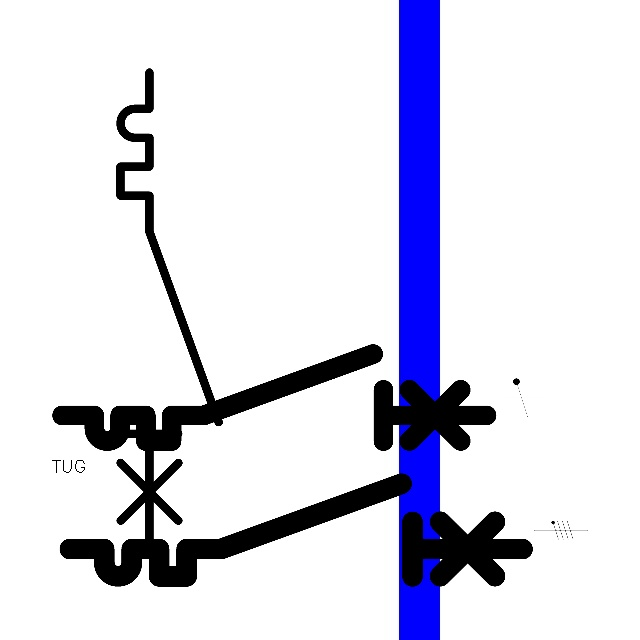interruptor_termomagnetico: (108, 60, 231, 562), (58, 472, 534, 588), (51, 343, 497, 452)
